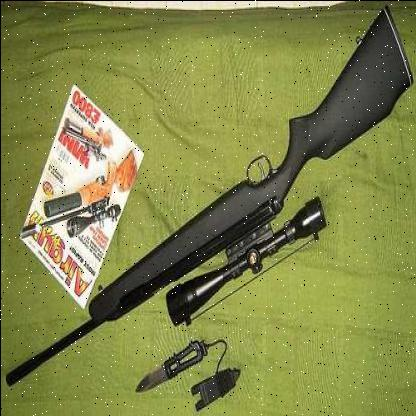rifle: (1, 6, 410, 397)
